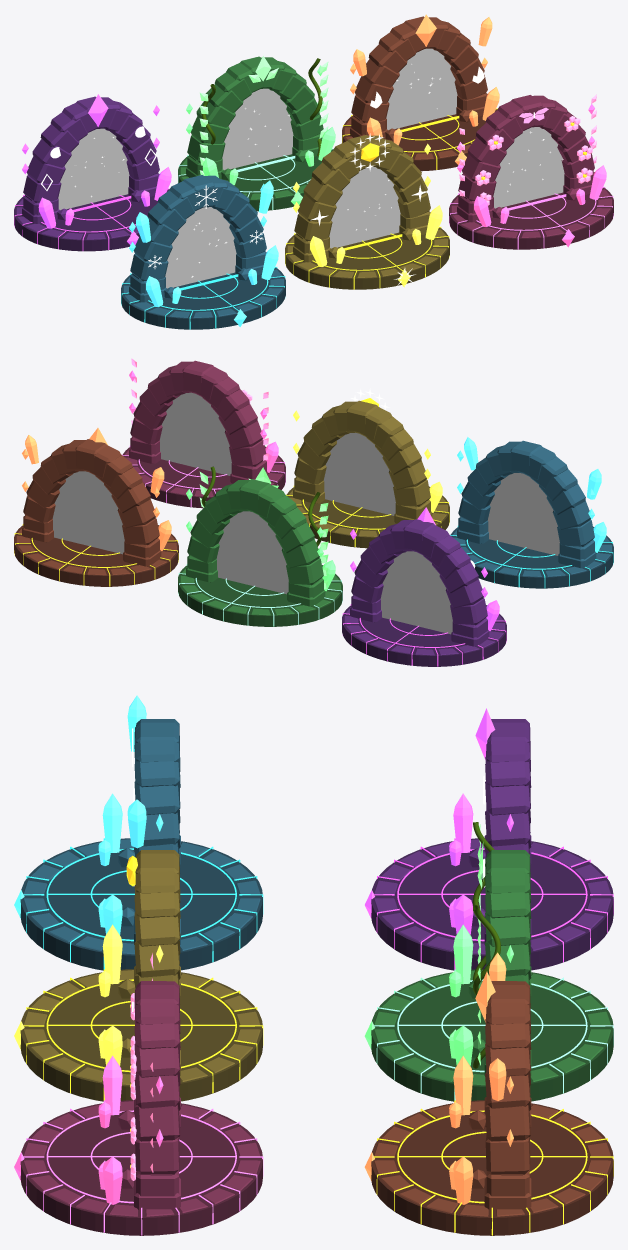
The model's file is portals-v6.fbx.
3 renders of one model, top to bottom at view 1: azimuth 30°, elevation 25°; view 2: azimuth 150°, elevation 25°; view 3: azimuth 270°, elevation 25°, orthographic. The views are drawn at different scales.
Parts seen in each view (by area): view 1: Rose Blossom altar core, Frozen Ice altar core, Solar Gold altar core, Verdant Nature animated spiral, Arcane Violet animated spiral, Rose Blossom animated spiral, Blazing Fire animated spiral, Solar Gold animated spiral, Frozen Ice animated spiral, Arcane Violet altar core, Blazing Fire altar core, Verdant Nature altar core (+50 smaller); view 2: Blazing Fire altar core, Arcane Violet altar core, Verdant Nature altar core, Arcane Violet animated spiral, Blazing Fire animated spiral, Frozen Ice animated spiral, Solar Gold animated spiral, Verdant Nature animated spiral, Rose Blossom animated spiral, Frozen Ice altar core, Solar Gold altar core, Rose Blossom altar core (+62 smaller); view 3: Blazing Fire altar core, Rose Blossom altar core, Frozen Ice altar core, Verdant Nature altar core, Solar Gold altar core, Arcane Violet altar core, Arch block 01.002, Arch block 01.005, Arch block 02.002, Arch block 02.005, Arch block 03, Arch block 03.004 (+40 smaller).
Boxes of the visible parts, box(x1,y1,x2,y2) form: Rose Blossom altar core: box(449, 187, 613, 249); Frozen Ice altar core: box(121, 267, 285, 329); Solar Gold altar core: box(285, 227, 449, 289); Verdant Nature animated spiral: box(222, 88, 293, 170); Arcane Violet animated spiral: box(58, 128, 129, 210); Rose Blossom animated spiral: box(493, 127, 564, 208); Blazing Fire animated spiral: box(386, 48, 457, 130); Solar Gold animated spiral: box(329, 167, 400, 248); Frozen Ice animated spiral: box(165, 207, 236, 288); Arcane Violet altar core: box(14, 189, 169, 251); Blazing Fire altar core: box(342, 109, 497, 171); Verdant Nature altar core: box(178, 149, 333, 211); Blazing Fire altar core: box(14, 525, 178, 586); Arcane Violet altar core: box(342, 605, 506, 666); Verdant Nature altar core: box(178, 565, 342, 626); Arcane Violet animated spiral: box(380, 551, 452, 634); Blazing Fire animated spiral: box(52, 471, 124, 554); Frozen Ice animated spiral: box(487, 473, 559, 555); Solar Gold animated spiral: box(323, 432, 395, 515); Verdant Nature animated spiral: box(216, 511, 288, 594); Rose Blossom animated spiral: box(159, 392, 231, 475); Frozen Ice altar core: box(450, 526, 613, 588); Solar Gold altar core: box(286, 486, 449, 548); Rose Blossom altar core: box(122, 446, 285, 508); Blazing Fire altar core: box(371, 1100, 613, 1235); Rose Blossom altar core: box(20, 1100, 262, 1235); Frozen Ice altar core: box(20, 838, 262, 970); Verdant Nature altar core: box(371, 969, 613, 1101); Solar Gold altar core: box(20, 969, 262, 1101); Arcane Violet altar core: box(371, 838, 613, 970); Arch block 01.002: box(485, 1135, 530, 1174); Arch block 01.005: box(135, 1137, 179, 1174); Arch block 02.002: box(485, 1105, 530, 1141); Arch block 02.005: box(134, 1105, 180, 1141); Arch block 03: box(485, 810, 531, 848); Arch block 03.004: box(134, 941, 180, 979).
Bounding box in the file's own units: 2002 × 521 × 1335.
